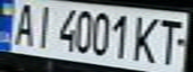0: (90, 9, 112, 57), (72, 7, 93, 55)
1: (109, 10, 133, 61)
4: (54, 5, 78, 53)
A: (6, 0, 39, 47)
I: (30, 2, 57, 50)
K: (127, 12, 163, 65)
T: (151, 16, 190, 66)
